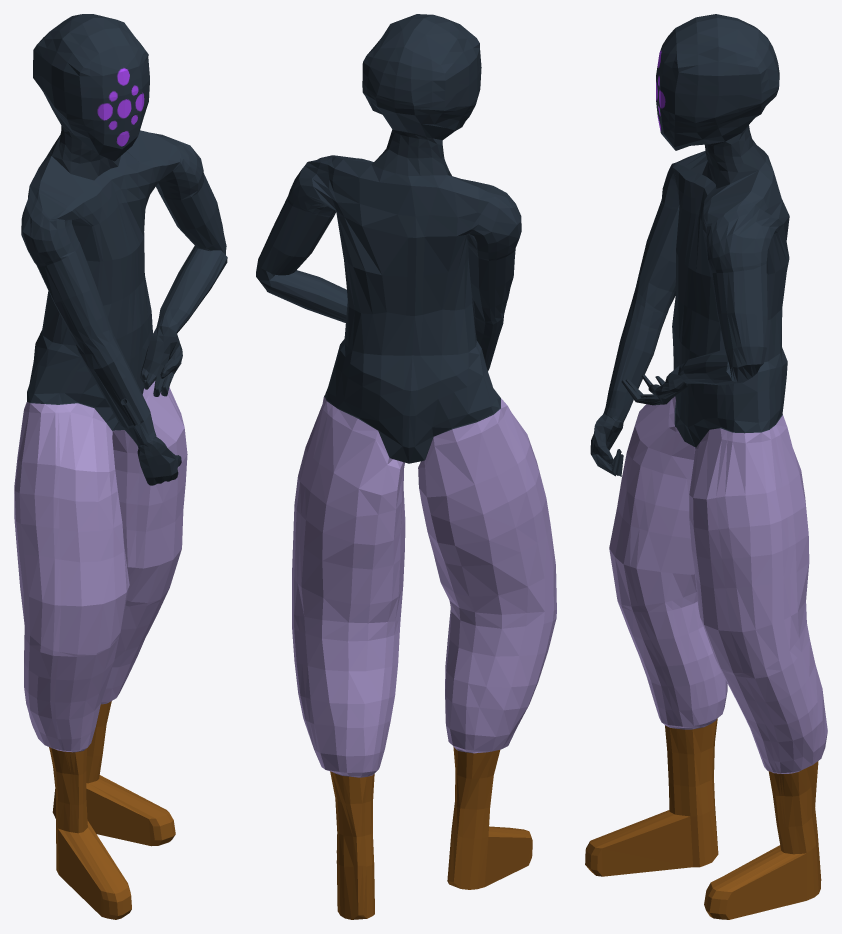
File: Oracle_WF_000002.obj
3 renders of one model, left to right at view 1: azimuth 30°, elevation 25°; view 2: azimuth 150°, elevation 25°; view 3: azimuth 270°, elevation 25°, orthographic. The views are drawn at different scales.
Visible parts, largest first — view 1: Cube; view 2: Cube; view 3: Cube.
Part boxes in pixels (x1,y1,x2,y2): Cube: [14, 14, 227, 919]; Cube: [256, 14, 556, 919]; Cube: [585, 14, 827, 919].
Size of the model in its own units: 1.16 by 3.93 by 0.9945.
